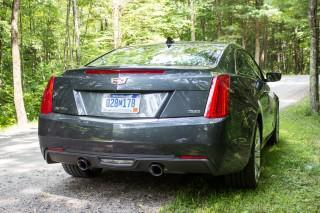cadillac: (108, 74, 128, 89)
